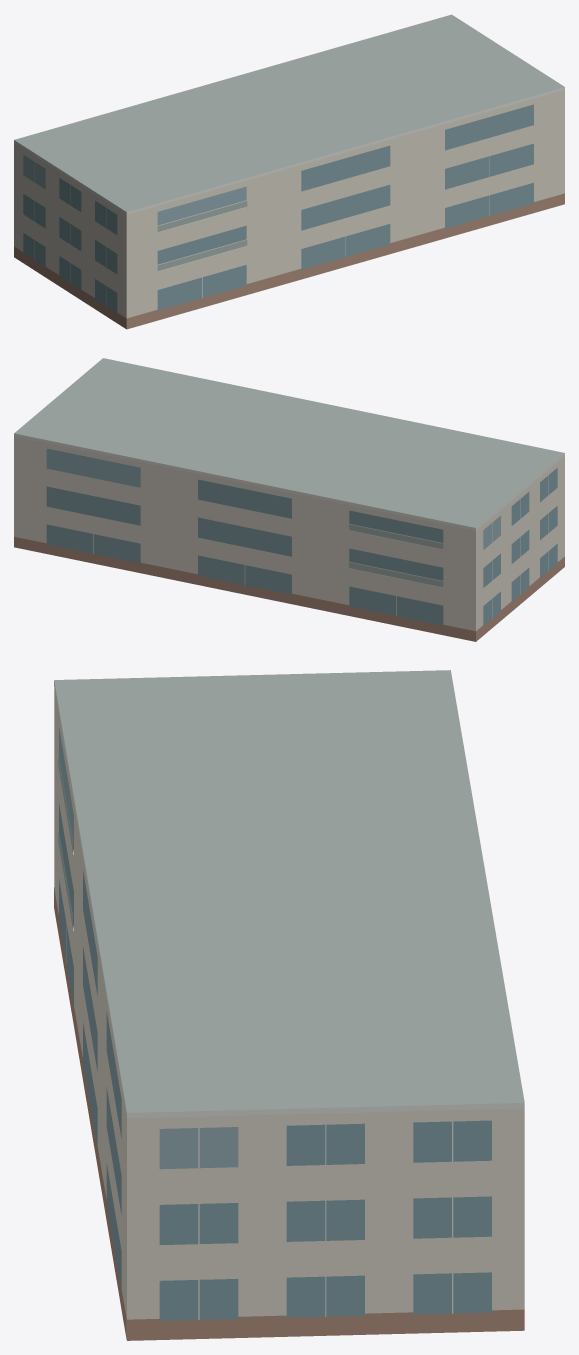
Rendered from survey-upis-32531844.glb.
3 views of the same model, one above another, from view 1: azimuth 30°, elevation 25°; view 2: azimuth 150°, elevation 25°; view 3: azimuth 270°, elevation 25° (orthographic). The views are drawn at different scales.
Visible parts, largest first — view 1: survey-upis-32531844.tmp; view 2: survey-upis-32531844.tmp; view 3: survey-upis-32531844.tmp.
Boxes of the visible parts, left/top/right/bottom form: survey-upis-32531844.tmp: left=14, top=14, right=564, bottom=329; survey-upis-32531844.tmp: left=14, top=358, right=564, bottom=641; survey-upis-32531844.tmp: left=54, top=670, right=524, bottom=1340.
Bounding box in the file's own units: 41.7 × 10 × 18.73.
